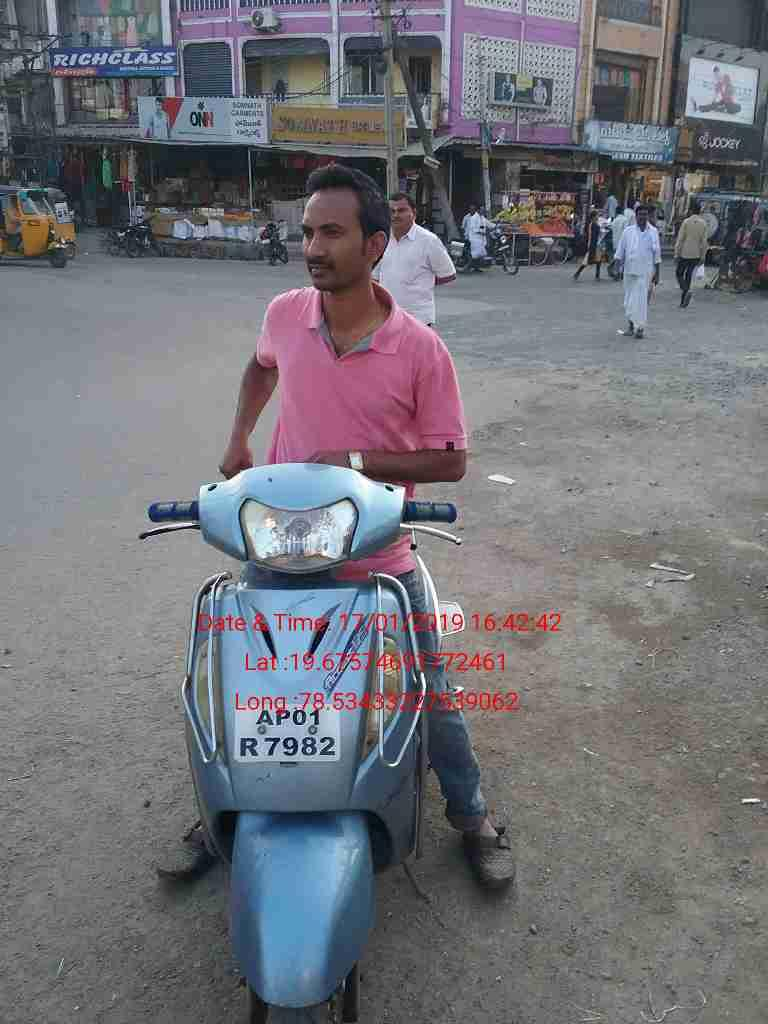plate: (233, 702, 343, 771)
